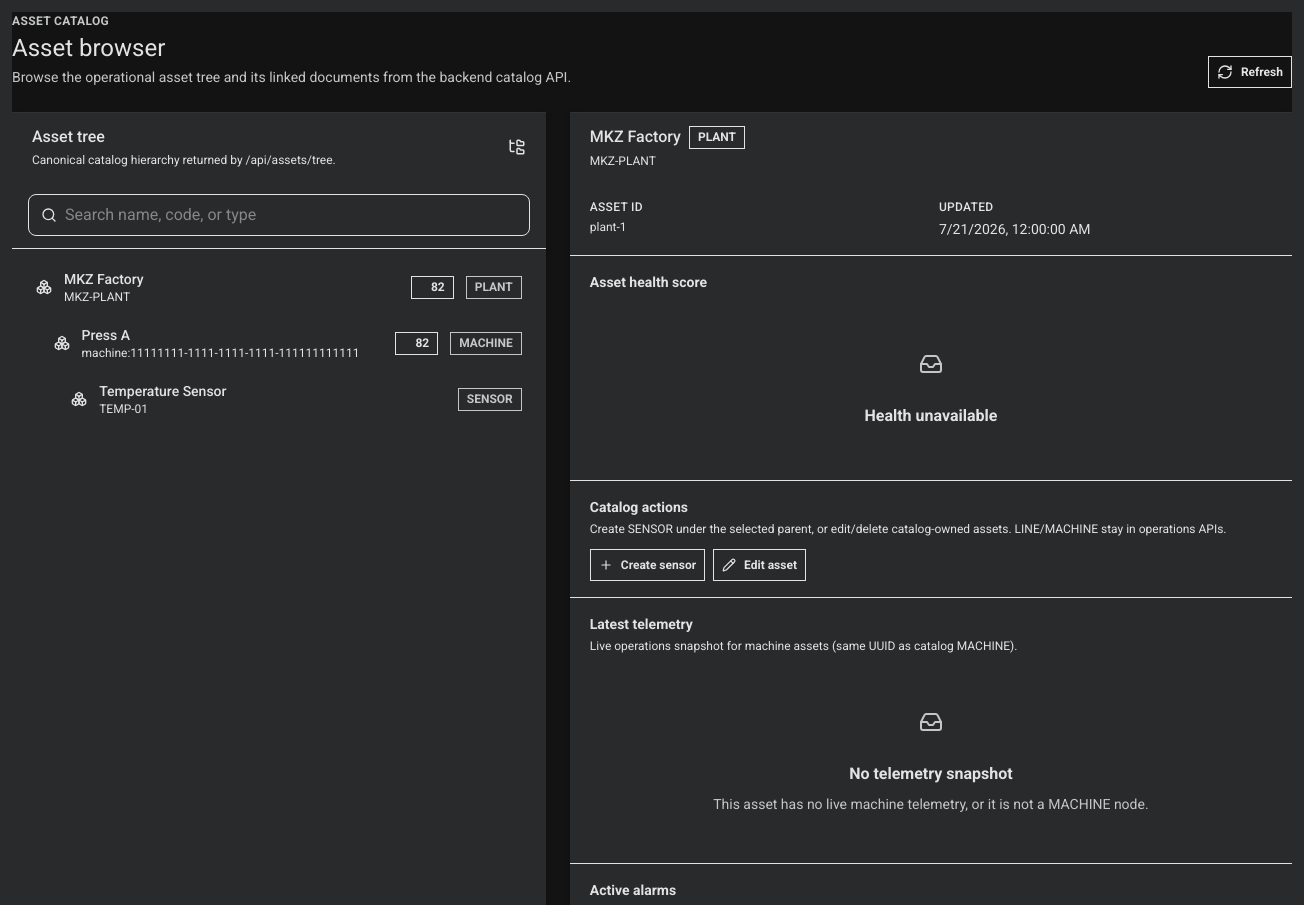
Test: AssetBrowserPage › loads the API-backed asset tree and documents for a selected asset
expect the heading "Asset browser" is shown: met, box 12,34 -> 165,62
Click the button "Temperature Sensor TEMP-01 SENSOR". click: (163, 391)
box: 24,373 -> 534,425
(page scrolled)
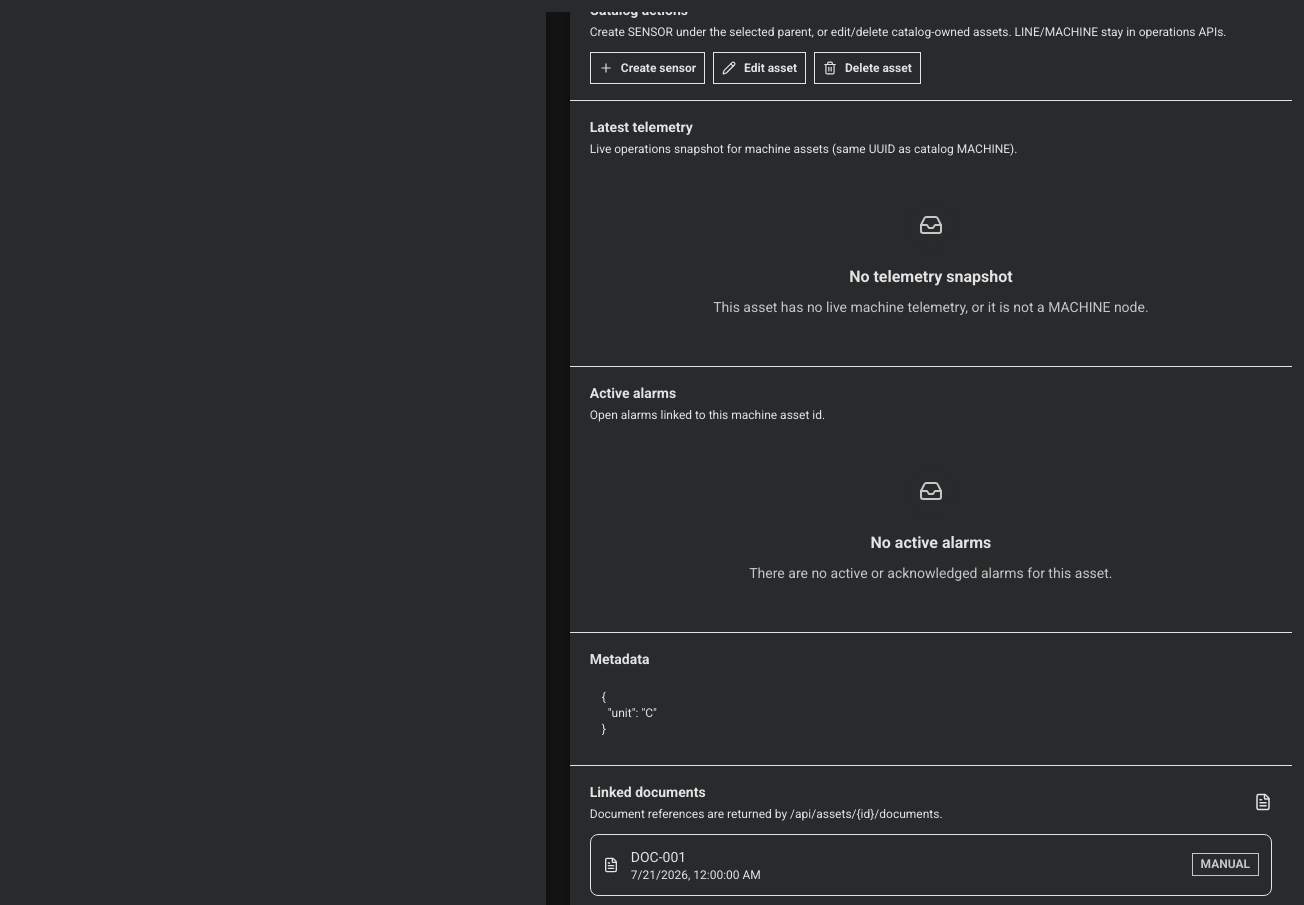
expect the text "DOC-001" is shown: met, box 631,849 -> 686,865
